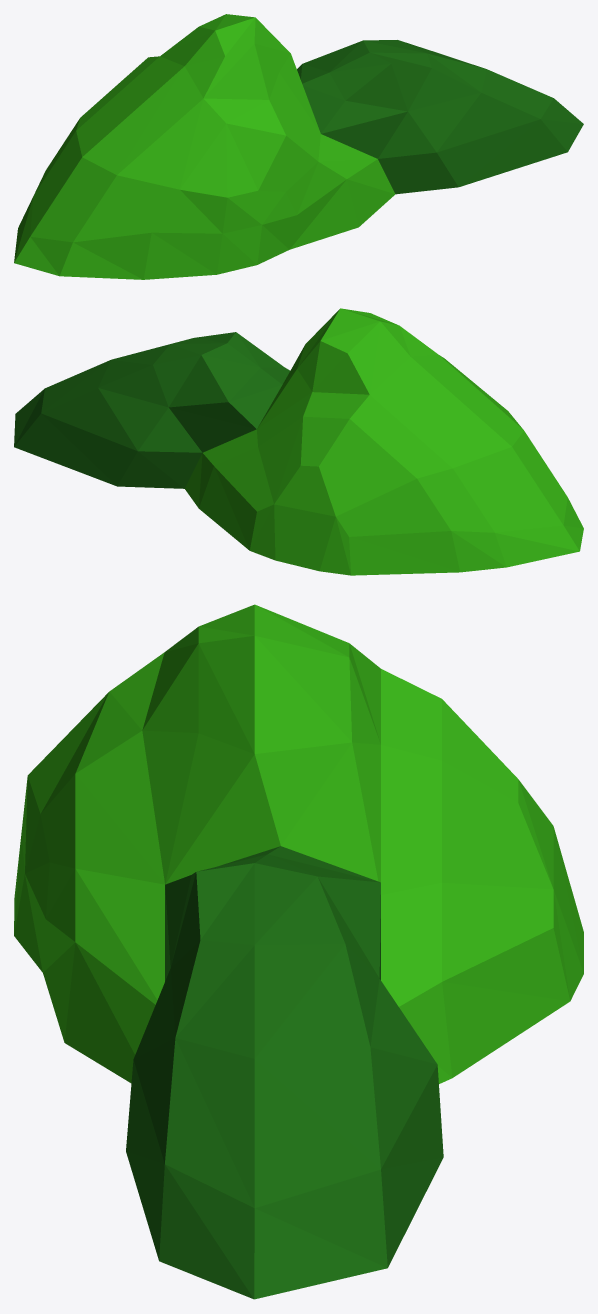
Rendered from San1-1.fbx.
The picture shows the model from 3 angles, top to bottom: view 1: azimuth 30°, elevation 25°; view 2: azimuth 150°, elevation 25°; view 3: azimuth 270°, elevation 25°; orthographic projection. The views are drawn at different scales.
Visible parts, largest first — view 1: San1-1; view 2: San1-1; view 3: San1-1.
Boxes of the visible parts, x1,y1,x2,y2 form: San1-1: (14, 14, 583, 279); San1-1: (14, 308, 583, 575); San1-1: (14, 604, 583, 1299).
Size of the model in its own units: 56.29 by 17.62 by 25.48.
